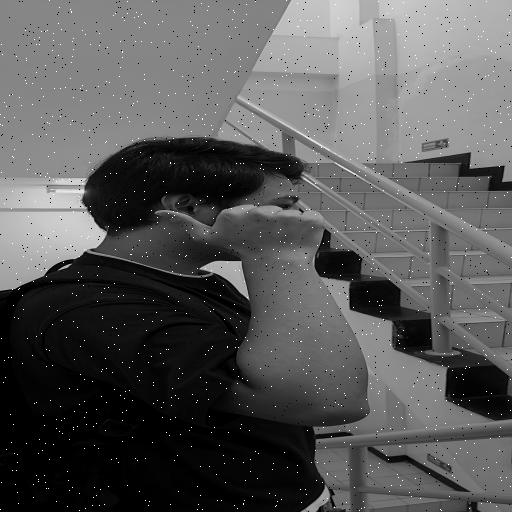back: (133, 195, 352, 272)
